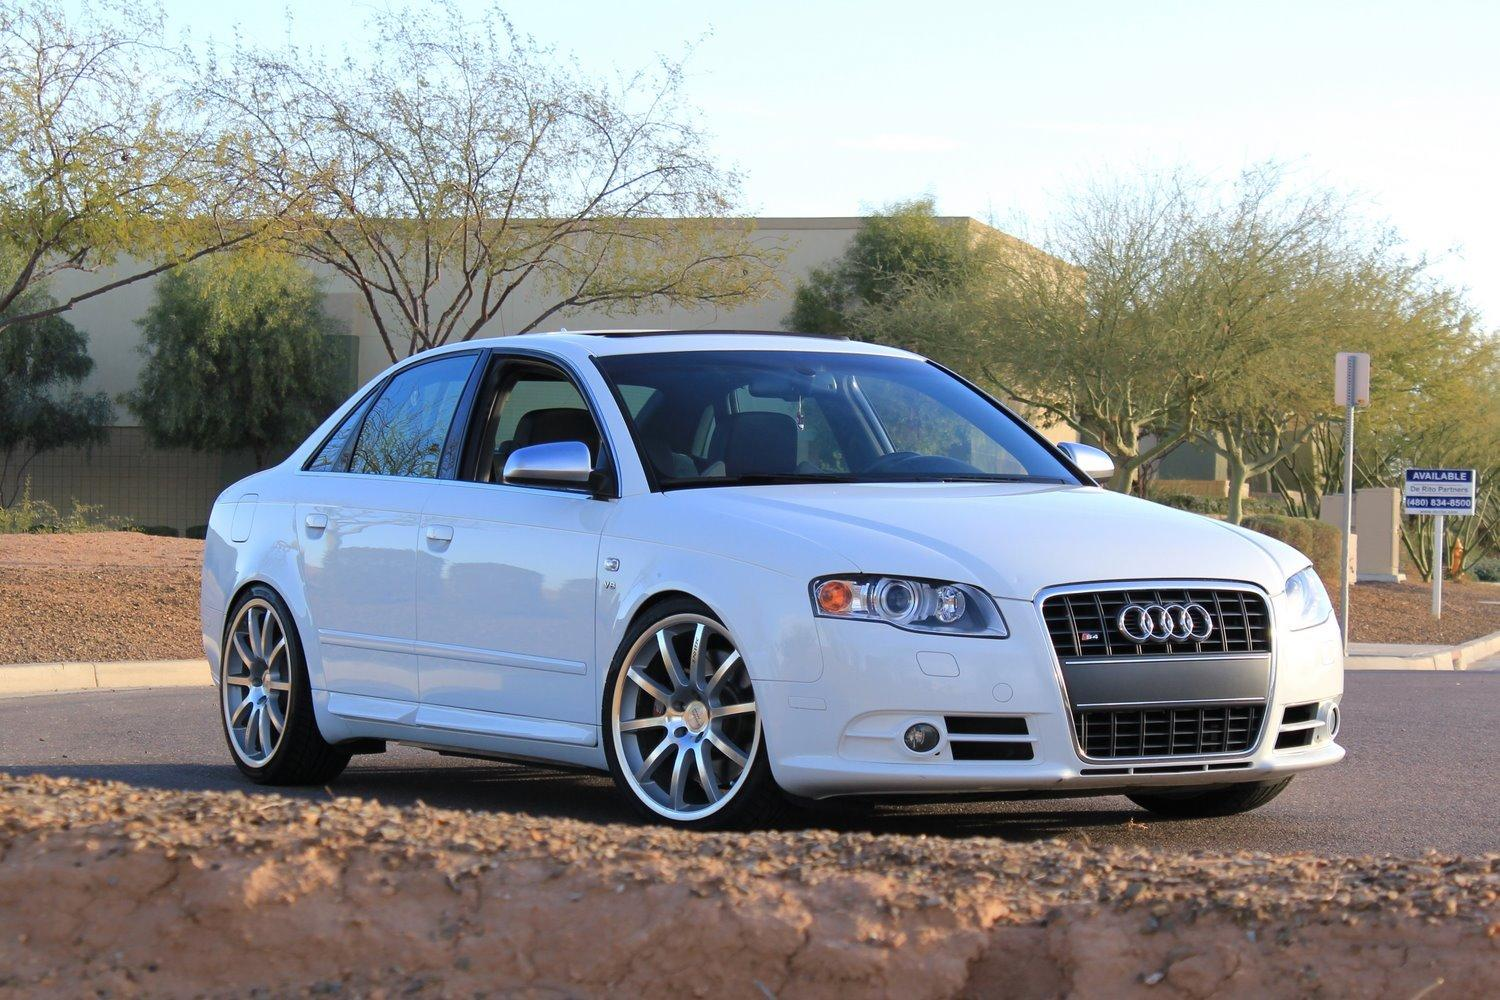Audi: (1105, 589, 1232, 657)
